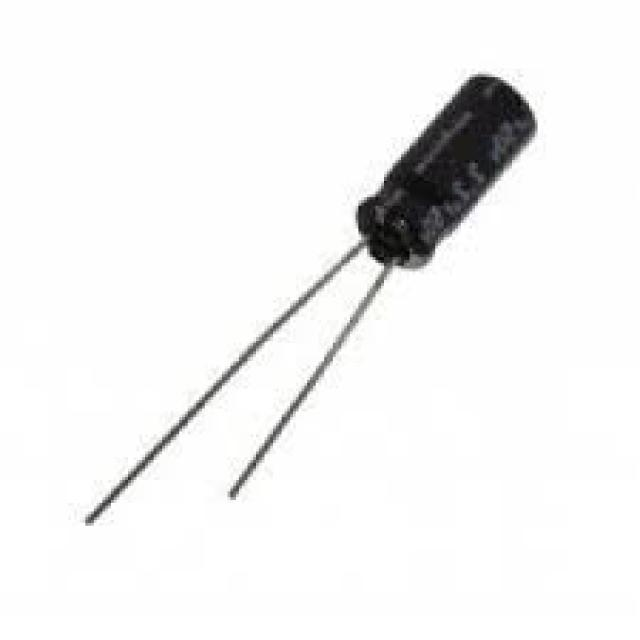Capacitor: (82, 74, 538, 526)
